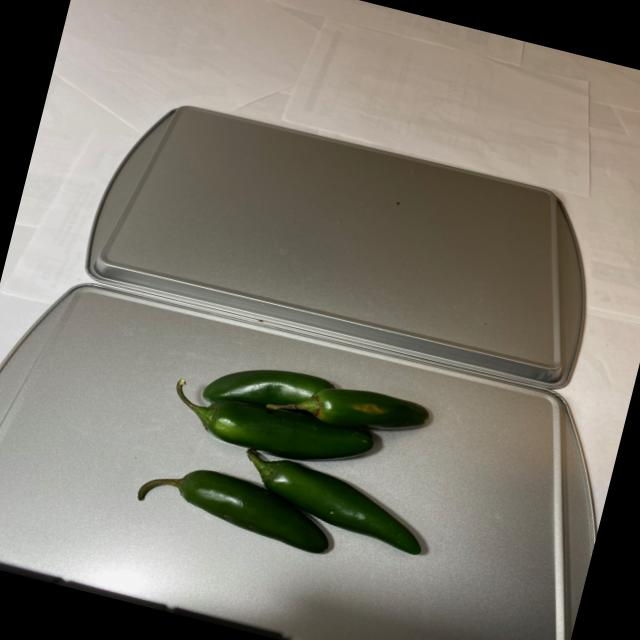chilli: (122, 332, 470, 600)
